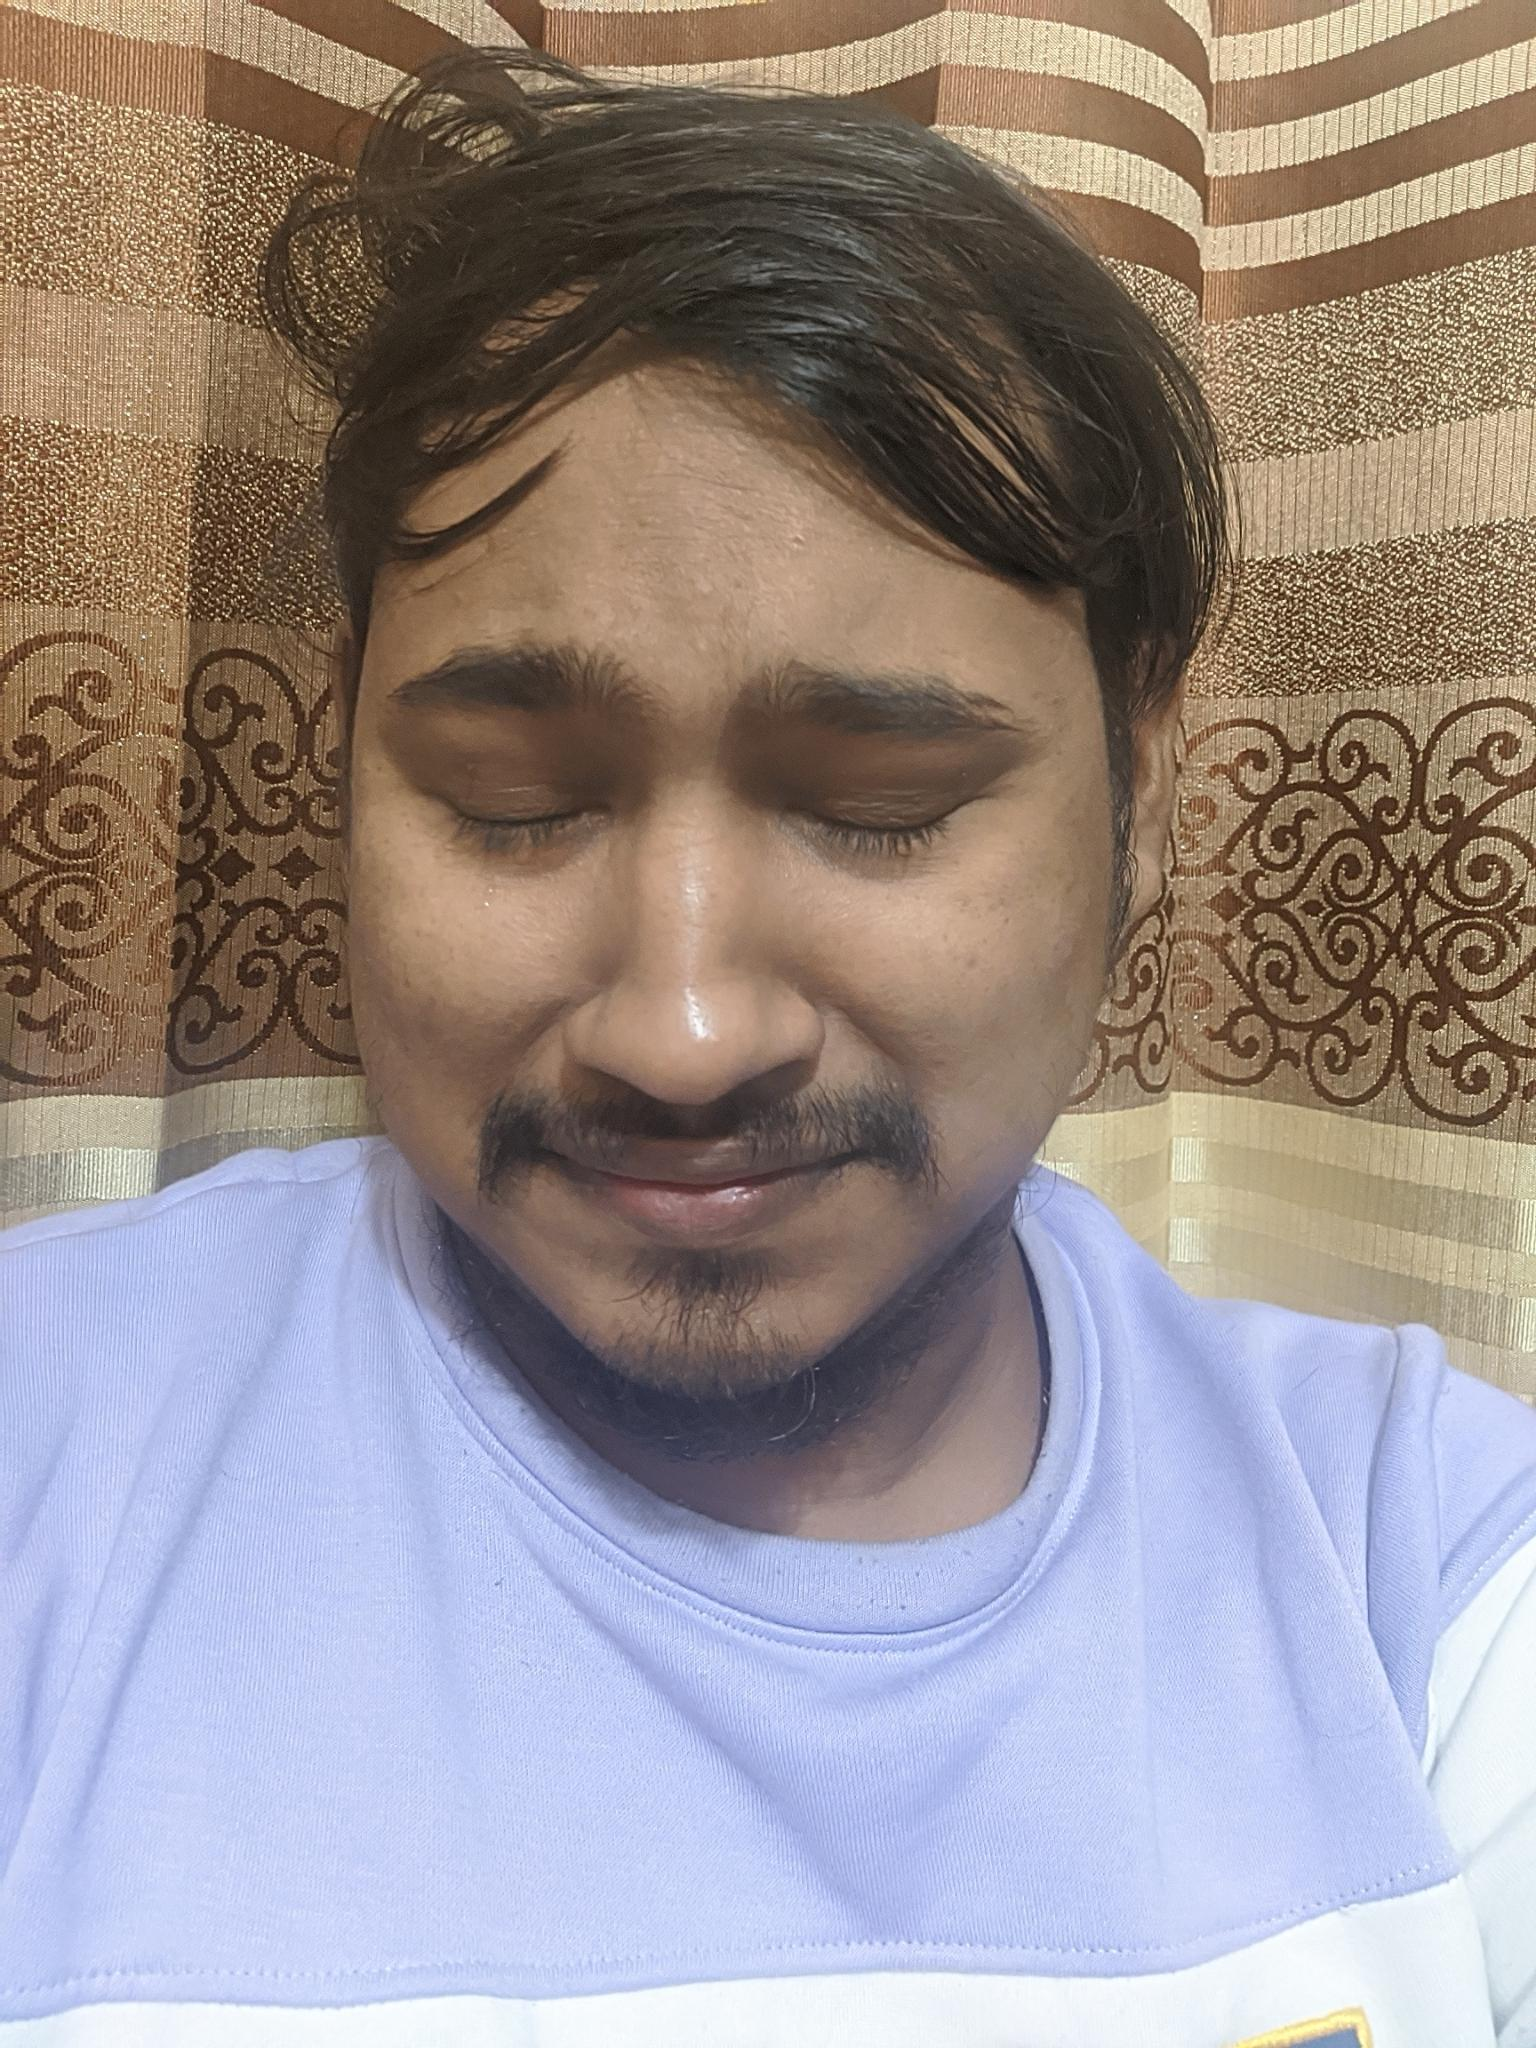Sad: (303, 498, 1099, 1429)
